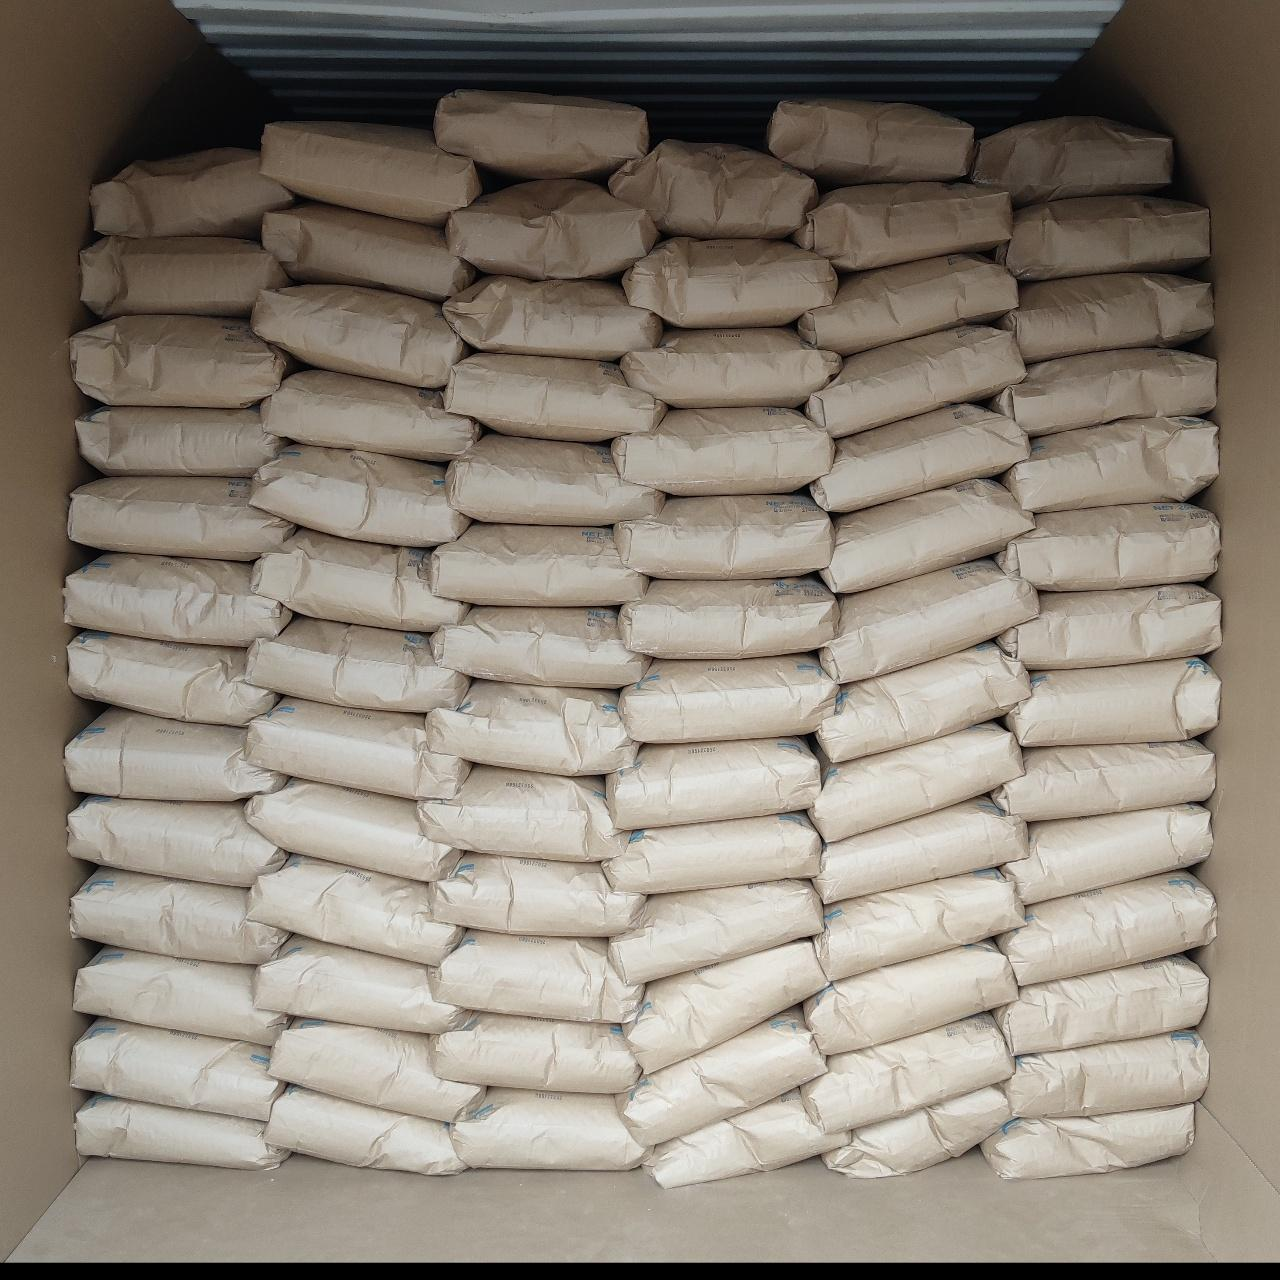sack: (622, 1010, 826, 1142), (626, 940, 826, 1070), (821, 561, 1036, 680), (816, 644, 1028, 758), (806, 326, 1022, 438), (812, 724, 1022, 838), (1000, 872, 1214, 982), (802, 1014, 1012, 1126), (806, 942, 1014, 1054), (250, 856, 462, 964), (810, 406, 1028, 510), (822, 481, 1030, 590), (248, 697, 468, 798), (816, 870, 1022, 976), (816, 798, 1026, 903), (610, 880, 822, 982), (263, 122, 478, 222), (250, 445, 467, 544), (254, 286, 467, 386), (254, 530, 464, 629), (270, 1020, 482, 1118), (74, 1020, 284, 1118), (248, 617, 467, 710), (248, 779, 456, 878), (448, 181, 658, 278), (996, 956, 1206, 1054), (76, 948, 286, 1046), (802, 256, 1014, 352), (72, 869, 286, 962), (610, 139, 813, 238), (264, 204, 472, 300), (66, 554, 290, 644), (1005, 806, 1210, 903), (66, 708, 284, 798), (72, 316, 292, 406), (420, 765, 626, 860), (428, 680, 636, 774), (256, 937, 464, 1030), (448, 434, 662, 524), (263, 370, 478, 459), (433, 930, 640, 1022), (1006, 418, 1216, 510), (644, 1092, 846, 1186), (70, 632, 275, 724), (70, 798, 286, 886), (608, 738, 821, 828), (434, 91, 646, 181), (998, 504, 1218, 590), (994, 350, 1214, 436), (624, 238, 835, 326), (622, 656, 838, 742), (614, 408, 830, 493), (444, 354, 662, 438), (796, 184, 1010, 270), (1000, 274, 1212, 360), (1000, 586, 1220, 668), (1005, 658, 1218, 742), (444, 275, 662, 358), (994, 740, 1214, 821), (971, 116, 1172, 204), (70, 478, 292, 558), (91, 148, 292, 236), (768, 100, 974, 184), (1002, 1032, 1206, 1116), (430, 524, 646, 604), (822, 1087, 1010, 1177), (604, 813, 821, 892), (430, 855, 644, 934), (614, 496, 830, 574), (622, 578, 838, 656), (998, 198, 1208, 278), (622, 328, 838, 406), (433, 608, 646, 686), (82, 238, 288, 318), (268, 1088, 462, 1172), (433, 1014, 638, 1090), (982, 1107, 1194, 1178), (452, 1090, 648, 1166), (76, 1096, 286, 1166), (79, 408, 284, 474)
